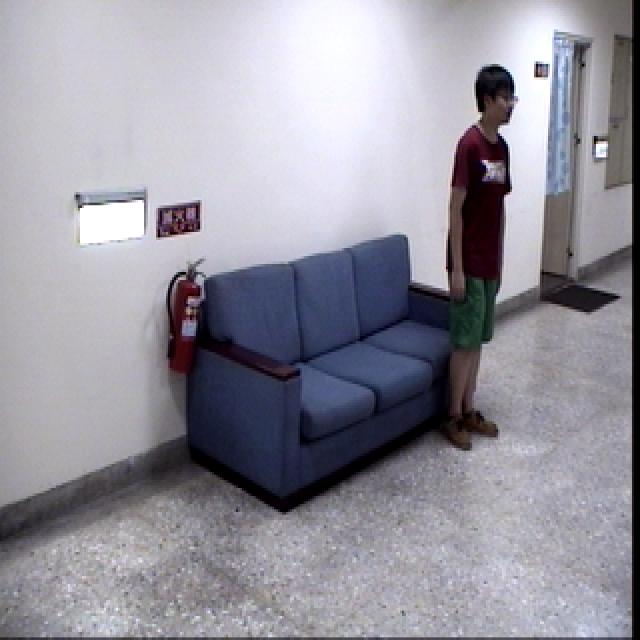stand: (429, 55, 524, 461)
